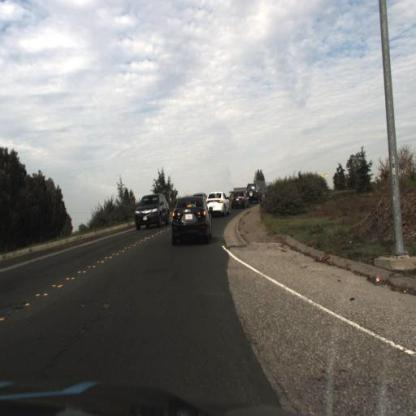car: (172, 195, 213, 249), (134, 195, 172, 234), (206, 190, 231, 217), (247, 179, 264, 205), (231, 191, 248, 212)
